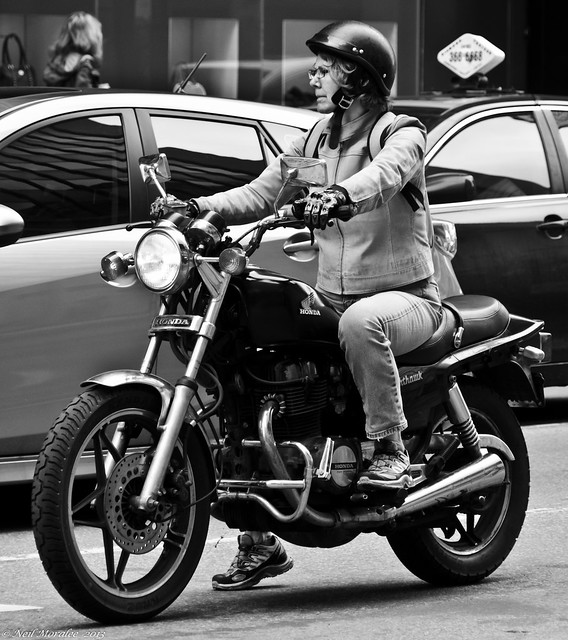helmet: (312, 20, 400, 85)
